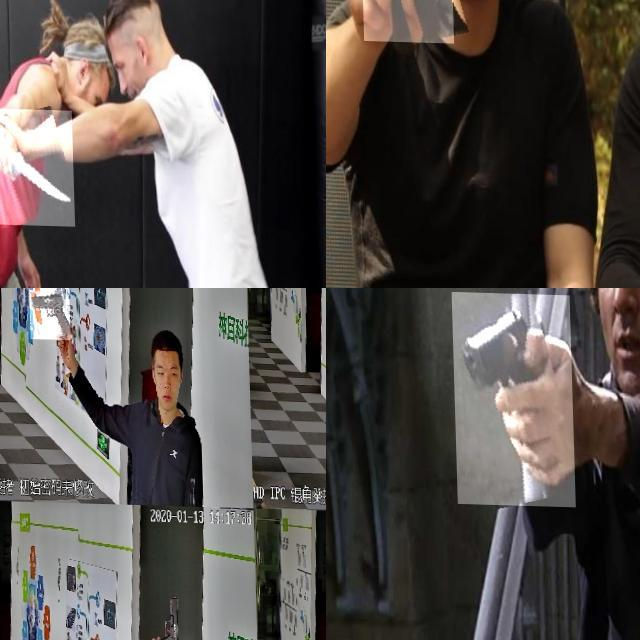-: (356, 0, 451, 134), (0, 106, 73, 224)
gun-knife-thesis - v11 Yolov5 augmented: (450, 291, 573, 505), (28, 288, 70, 339), (145, 591, 175, 640)
